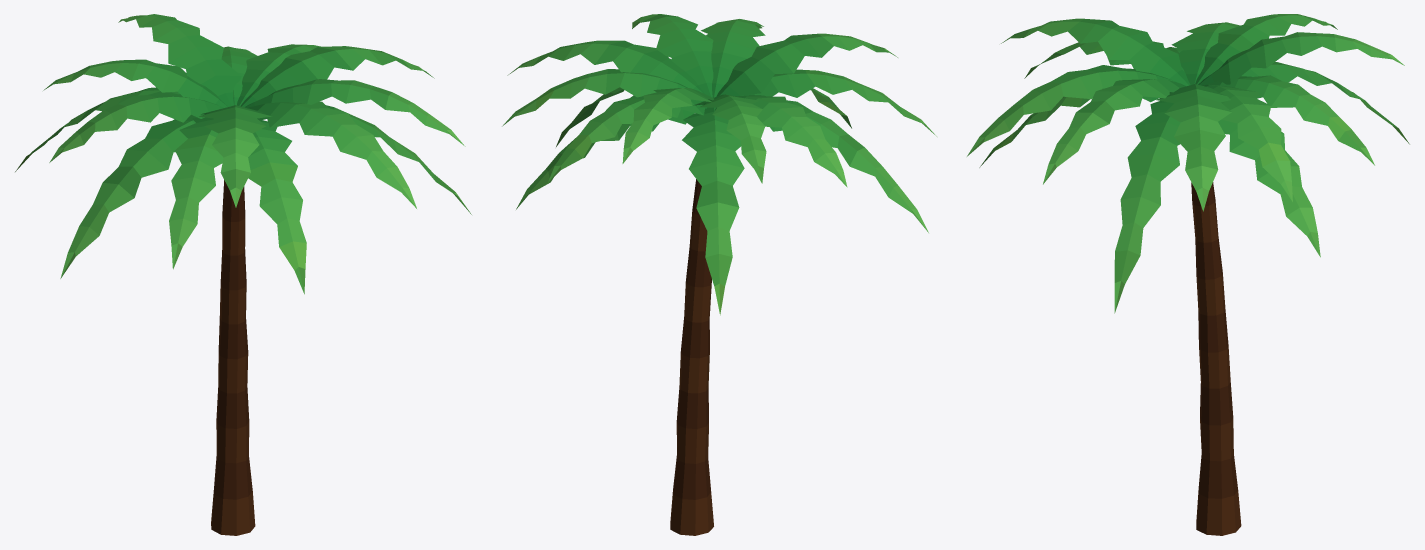
The model's file is palm-3.glb.
3 renders of one model, left to right at view 1: azimuth 30°, elevation 25°; view 2: azimuth 150°, elevation 25°; view 3: azimuth 270°, elevation 25°, orthographic. The views are drawn at different scales.
Parts seen in each view (by area): view 1: palm-3; view 2: palm-3; view 3: palm-3.
Boxes of the visible parts, x1=… form: palm-3: x1=15, y1=14, x2=471, y2=535; palm-3: x1=502, y1=14, x2=936, y2=535; palm-3: x1=967, y1=14, x2=1409, y2=535.
Size of the model in its own units: 7 by 7.86 by 6.57.
